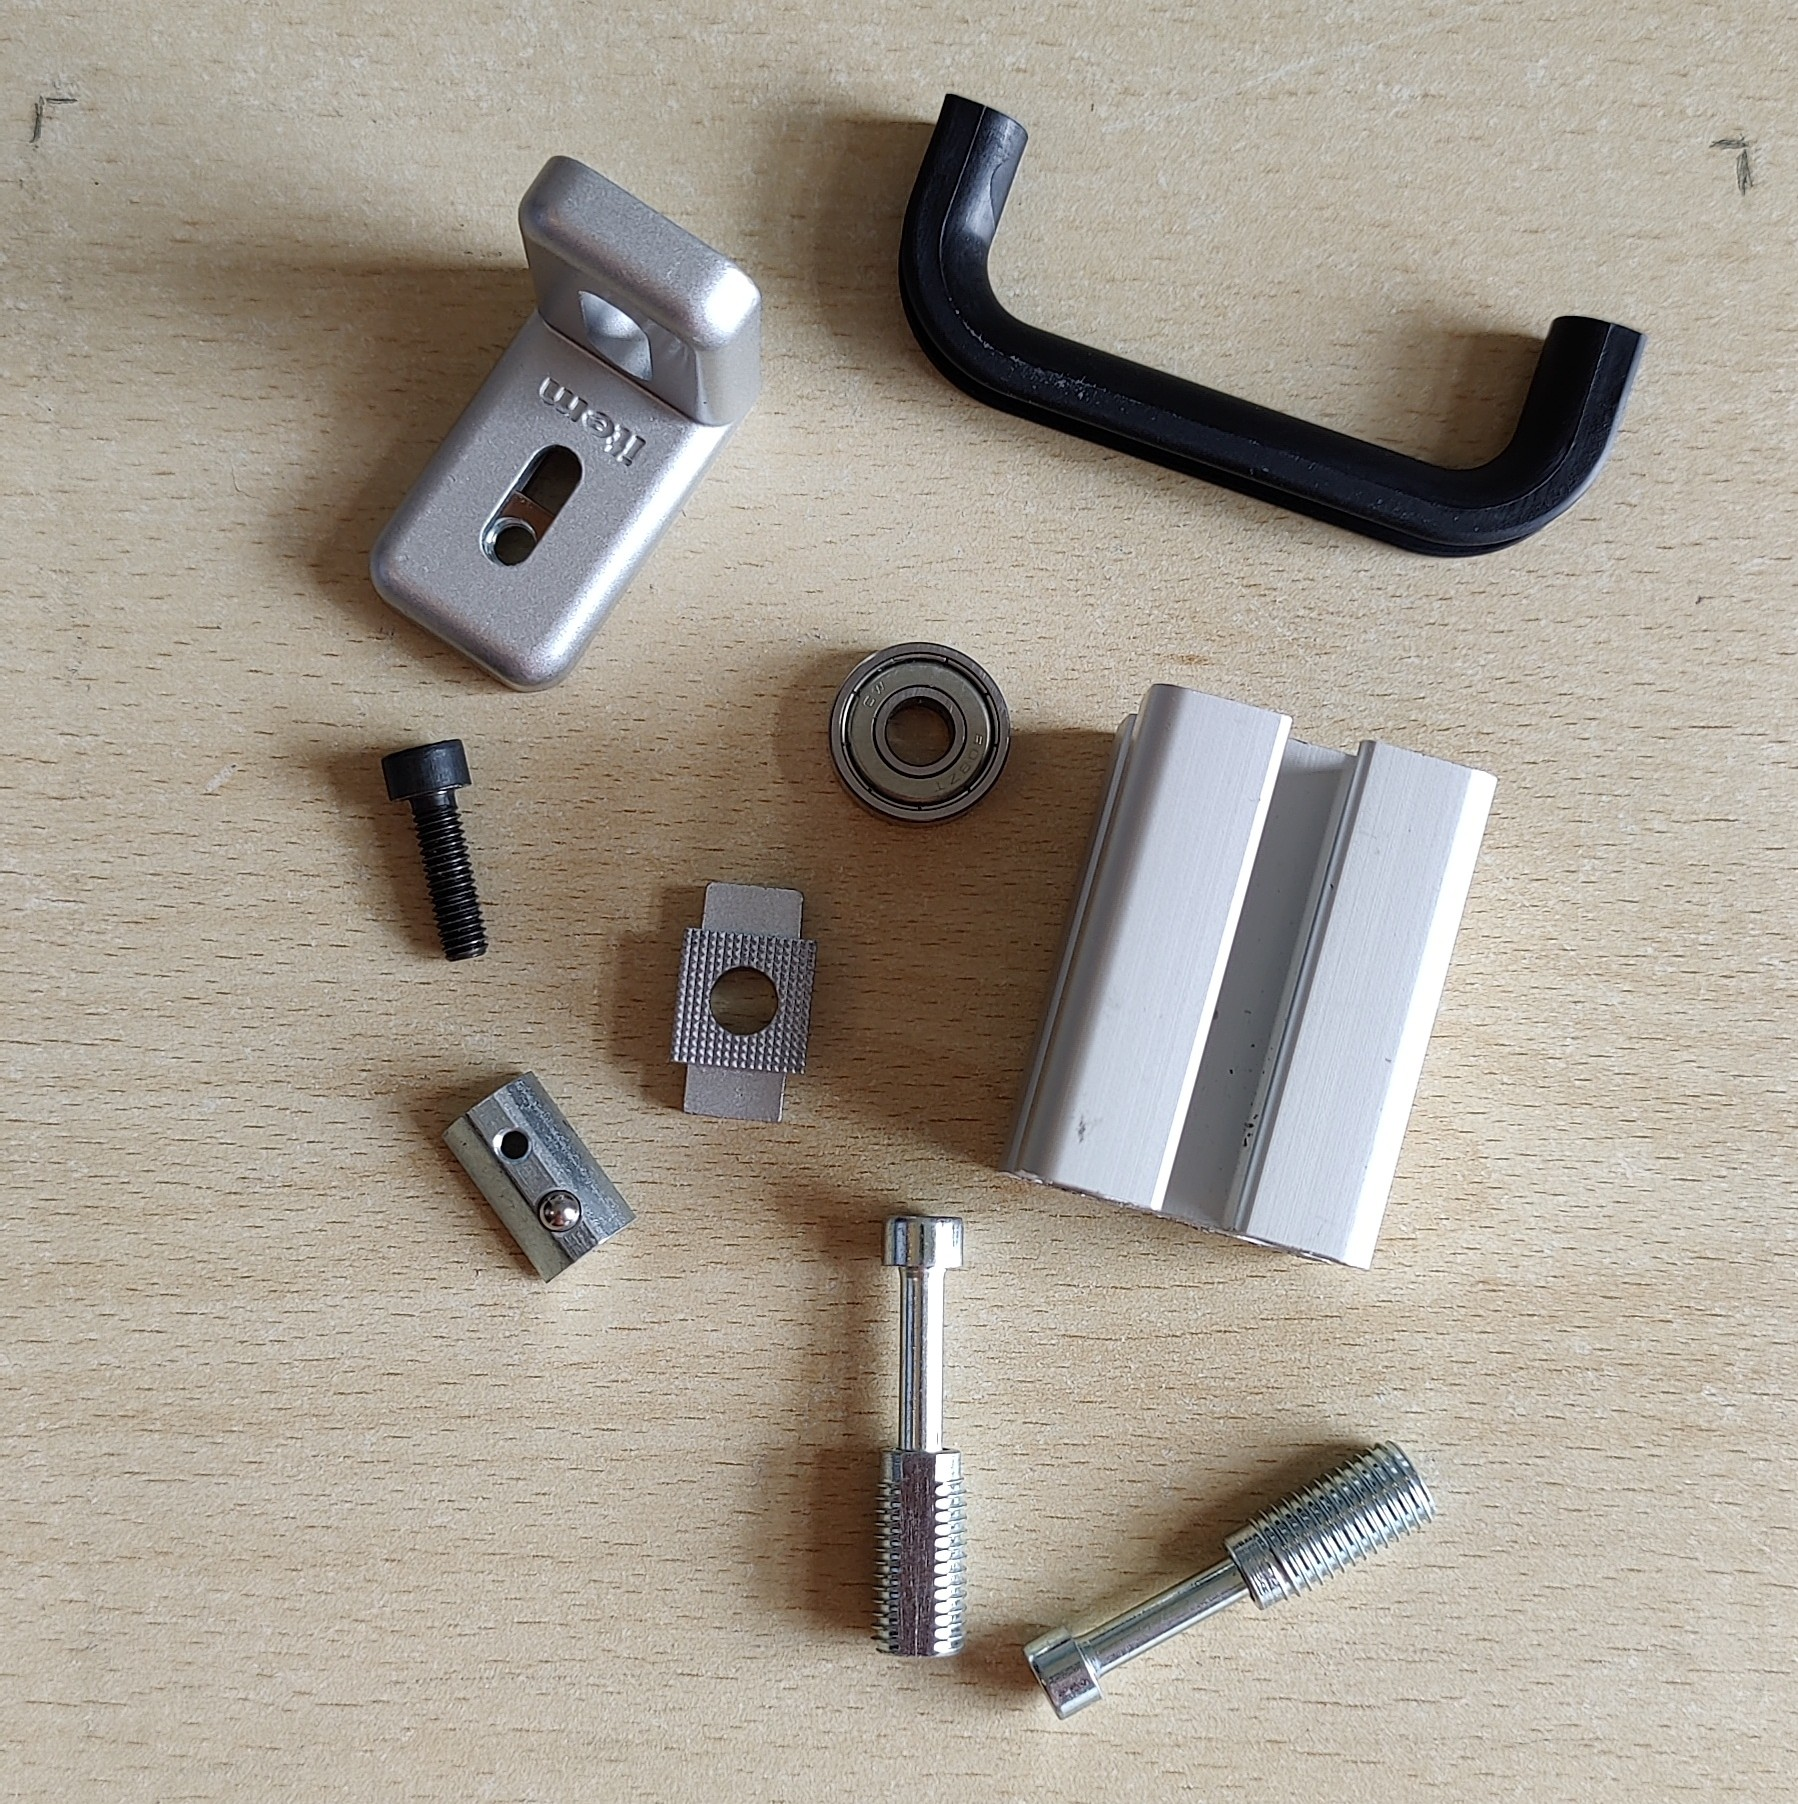Aluminium Extension: (999, 681, 1500, 1272)
Ball Bearing: (825, 642, 1009, 830)
Multiwinkel: (370, 153, 762, 696)
Pull Handle: (896, 91, 1650, 560)
Shoulder Socket Head Cap Screw: (1021, 1437, 1439, 1722), (868, 1210, 970, 1662)
Socket Head Cap Screw: (379, 737, 489, 961)
T Nut Square: (670, 877, 822, 1126)
T Spring Nut: (440, 1068, 639, 1284)
